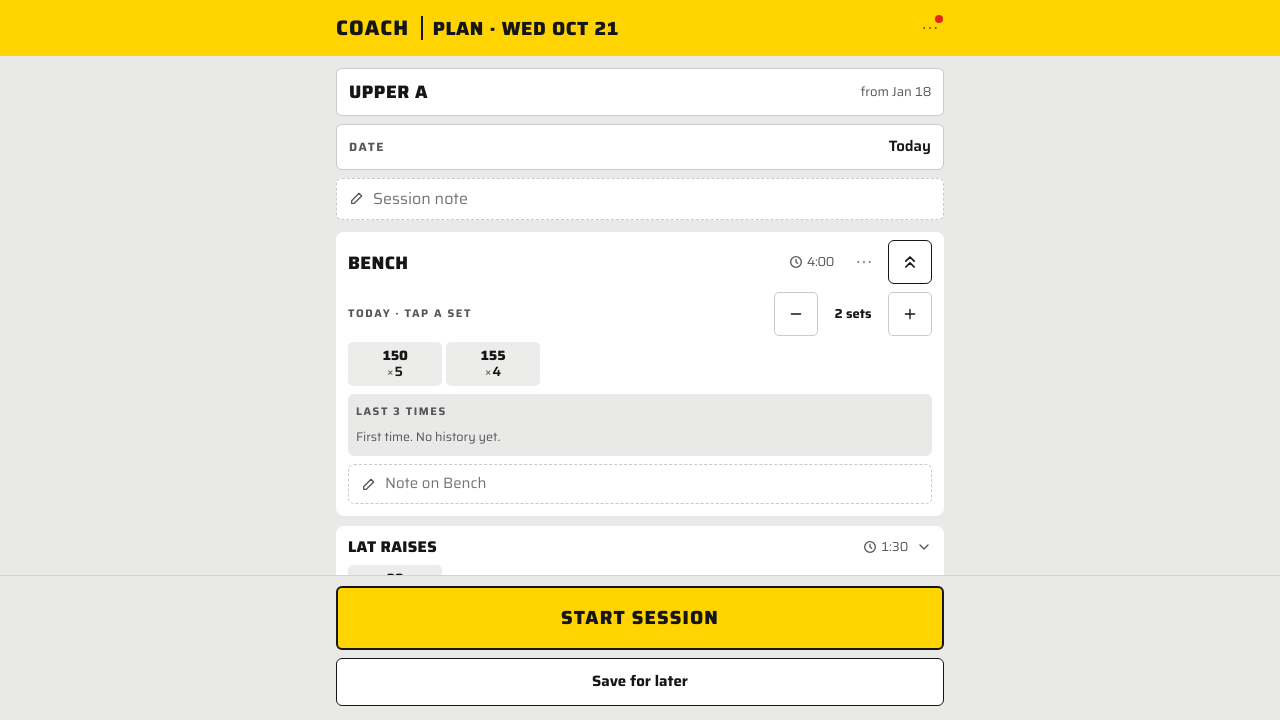
Scenario: PlanView › folds the open exercise, and a tap opens it again
The image size is (1280, 720).
What coordinates should you click on to do the following:
click the button named "Fold"
I would click on:
 (910, 262)
Its box is [888, 240, 932, 284].
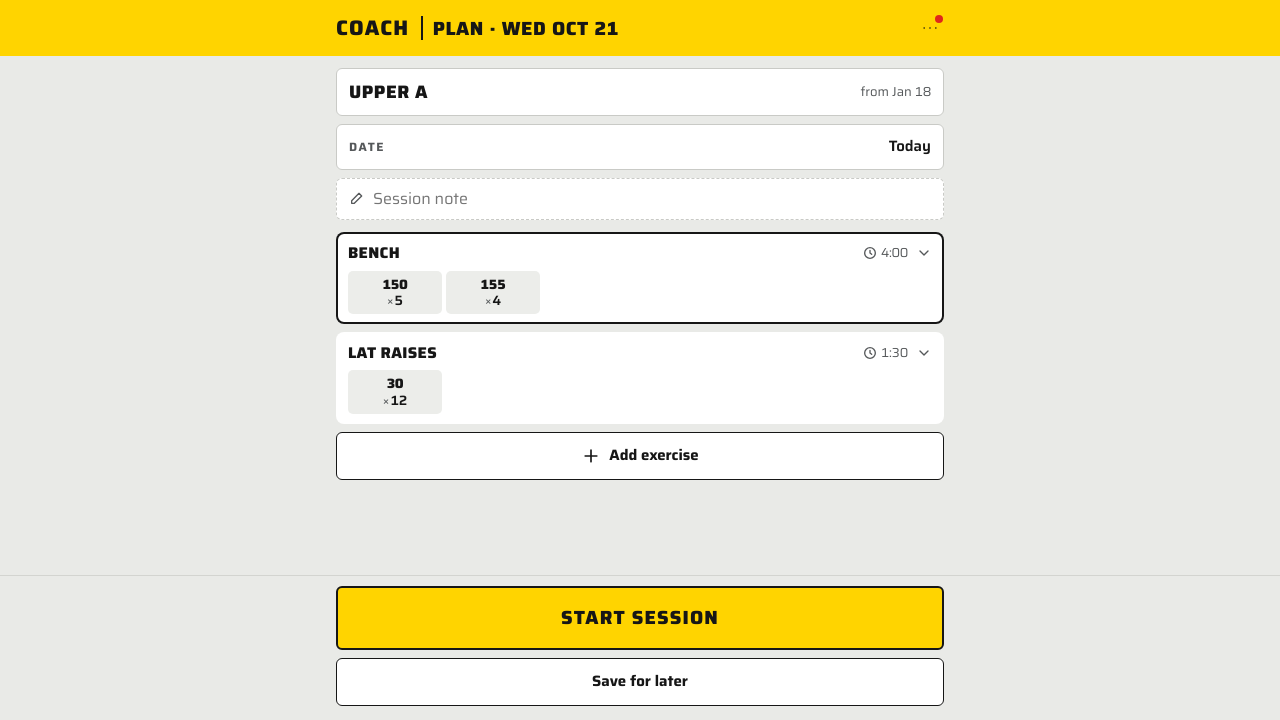
Result: the number of buttons with class "collapsed" is 2
What coordinates should you click on to do the following:
click the button with class "collapsed" showing "Lat raises 1:30 30 ×12"
I would click on:
 (392, 352)
Its box is [336, 332, 944, 424].
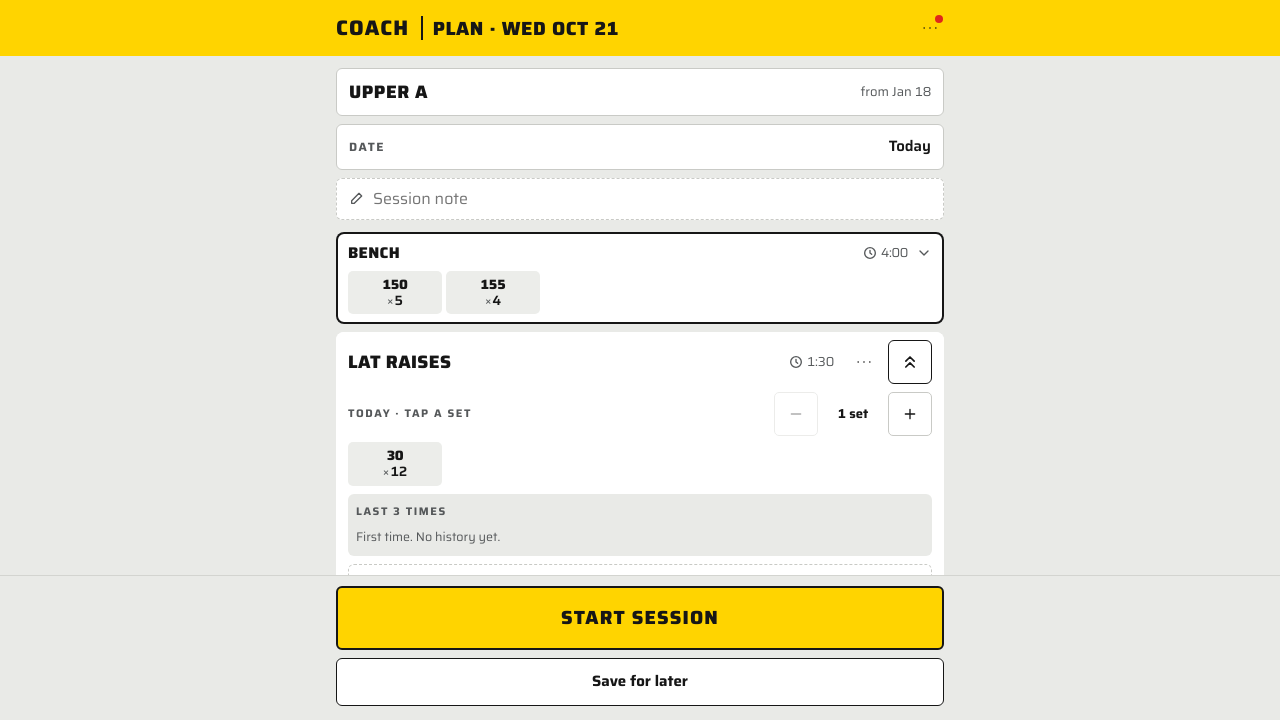
Result: the dropdown named "Exercise name" holds "Lat raises" at [348, 341, 778, 382]
